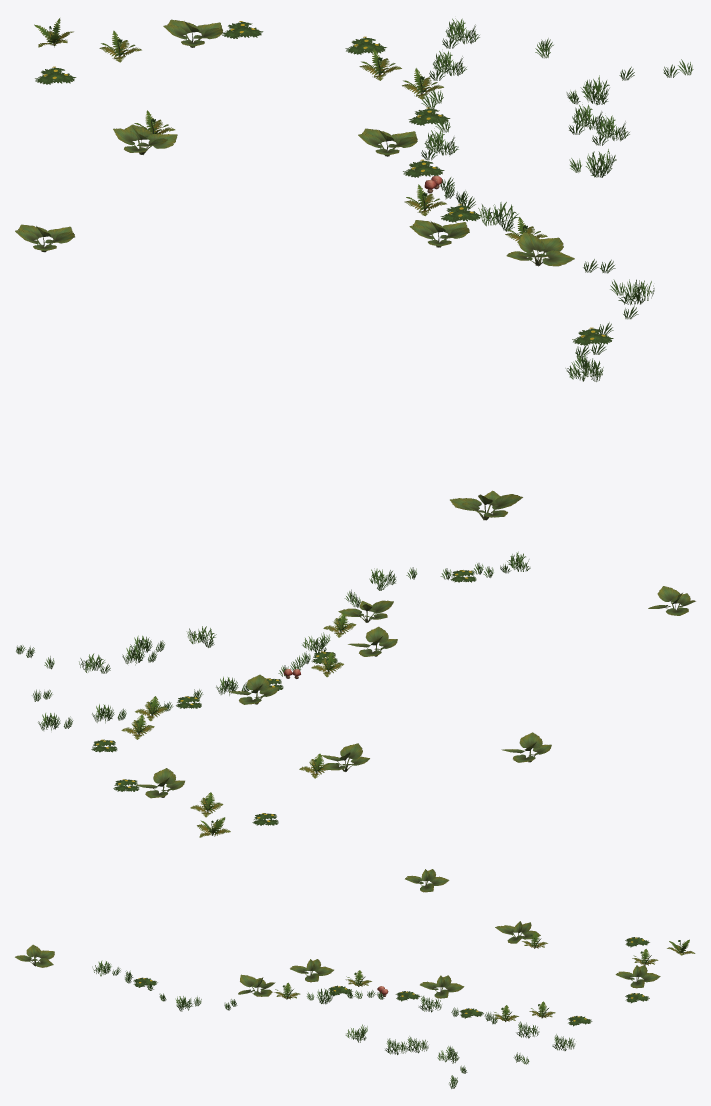
The model's file is scene_senlincaodi_zhiwu001.FBX.
3 views of the same model, one above another, from view 1: azimuth 30°, elevation 25°; view 2: azimuth 150°, elevation 25°; view 3: azimuth 270°, elevation 25° (orthographic). The views are drawn at different scales.
Visible parts, largest first — view 1: scene_senlincaodi_zhiwu001; view 2: scene_senlincaodi_zhiwu001; view 3: scene_senlincaodi_zhiwu001.
Boxes of the visible parts, left/top/right/bottom form: scene_senlincaodi_zhiwu001: left=15, top=18, right=693, bottom=520; scene_senlincaodi_zhiwu001: left=16, top=551, right=695, bottom=837; scene_senlincaodi_zhiwu001: left=15, top=869, right=695, bottom=1088.
Bounding box in the file's own units: 2775 × 361 × 3847.
